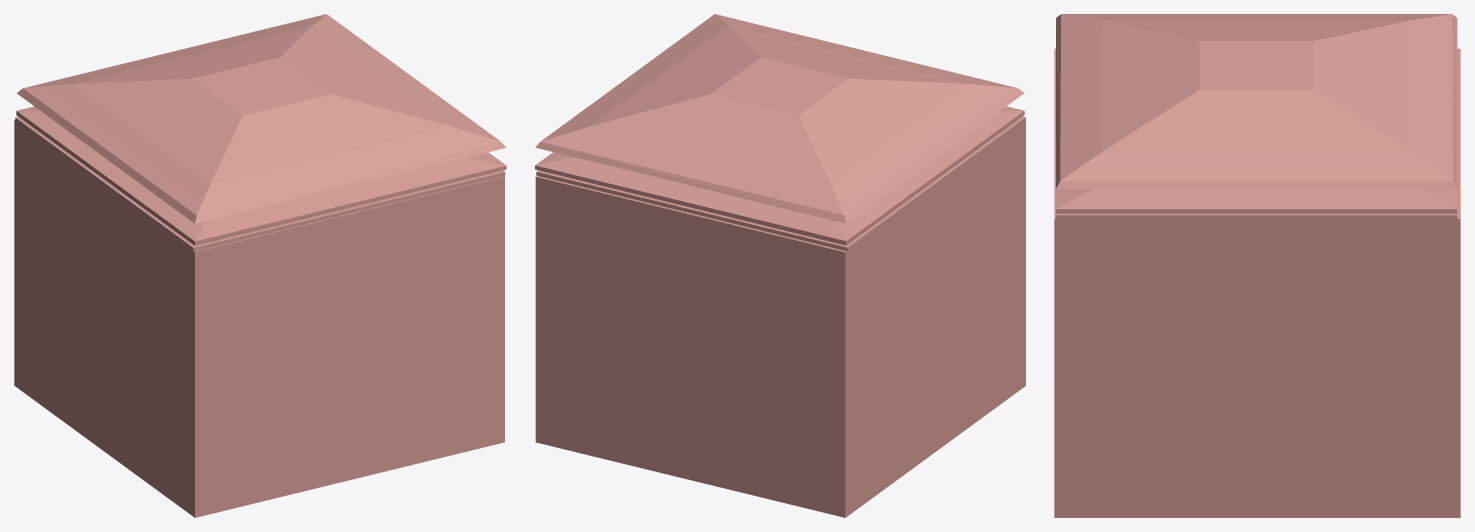
Rendered from sh-contrib-fencepost1.glb.
3 renders of one model, left to right at view 1: azimuth 30°, elevation 25°; view 2: azimuth 150°, elevation 25°; view 3: azimuth 270°, elevation 25°, orthographic. The views are drawn at different scales.
Visible parts, largest first — view 1: tallpostcap; view 2: tallpostcap; view 3: tallpostcap.
Part boxes in pixels (x1=…): tallpostcap: x1=14, y1=14, x2=506, y2=517; tallpostcap: x1=535, y1=14, x2=1025, y2=517; tallpostcap: x1=1054, y1=14, x2=1460, y2=517.
Size of the model in its own units: 1 by 1 by 1.
